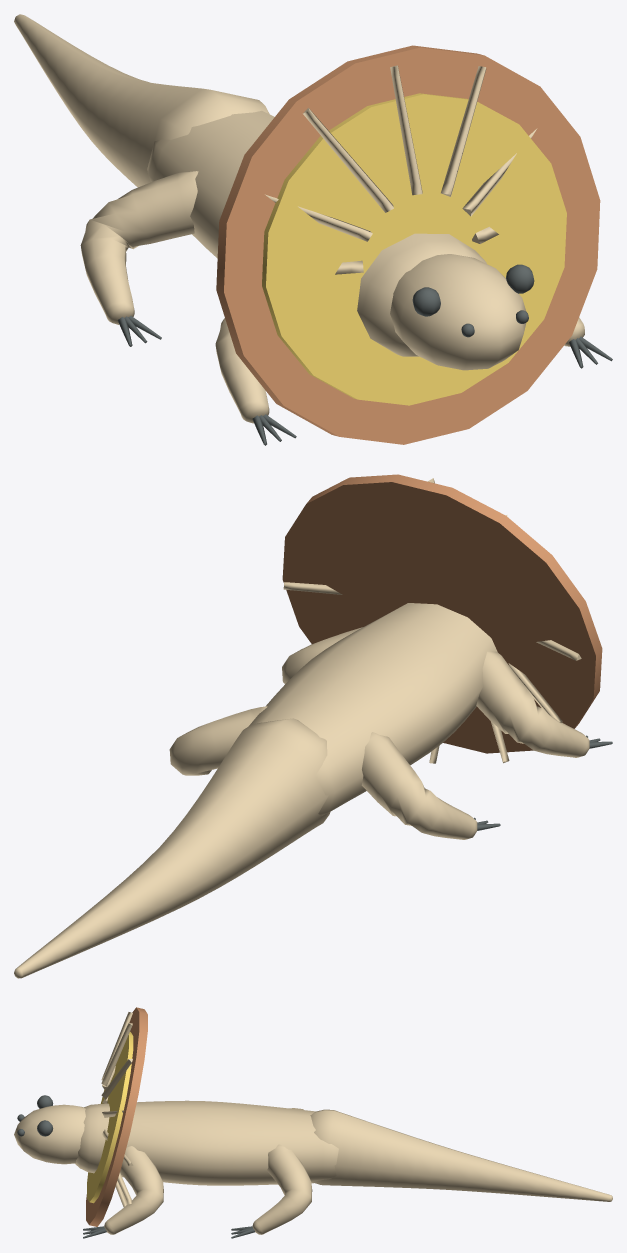
File: outback-and-australian-wildlife-frilled-lizard-871c6335__5922.glb
3 views of the same model, one above another, from view 1: azimuth 30°, elevation 25°; view 2: azimuth 150°, elevation 25°; view 3: azimuth 270°, elevation 25° (orthographic). The views are drawn at different scales.
Visible parts, largest first — view 1: frilled-lizard; view 2: frilled-lizard; view 3: frilled-lizard.
Part boxes in pixels (x1,y1,x2,y2): frilled-lizard: (14,14,612,445); frilled-lizard: (14,474,612,978); frilled-lizard: (14,1007,612,1238).
Size of the model in its own units: 0.25 by 0.2217 by 0.626.
